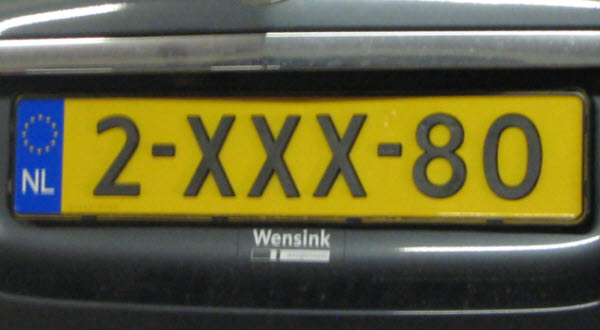license_plate: (11, 94, 587, 225)
